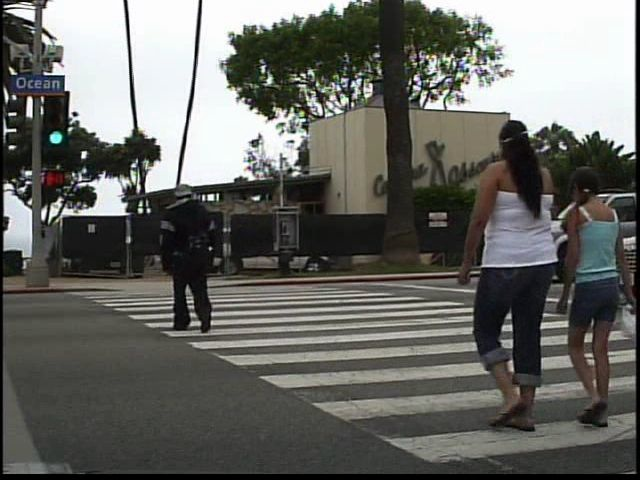person: (454, 115, 573, 452), (566, 162, 635, 436), (150, 171, 230, 342)
